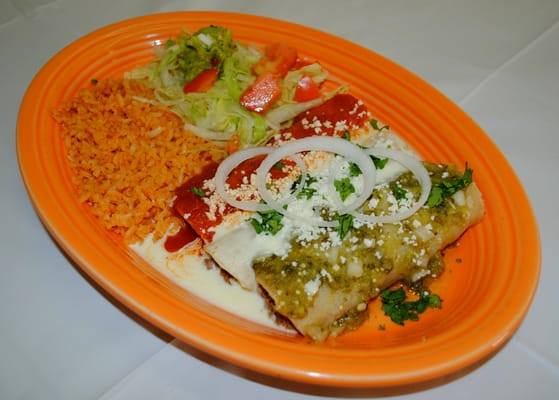curry: (422, 164, 473, 207)
